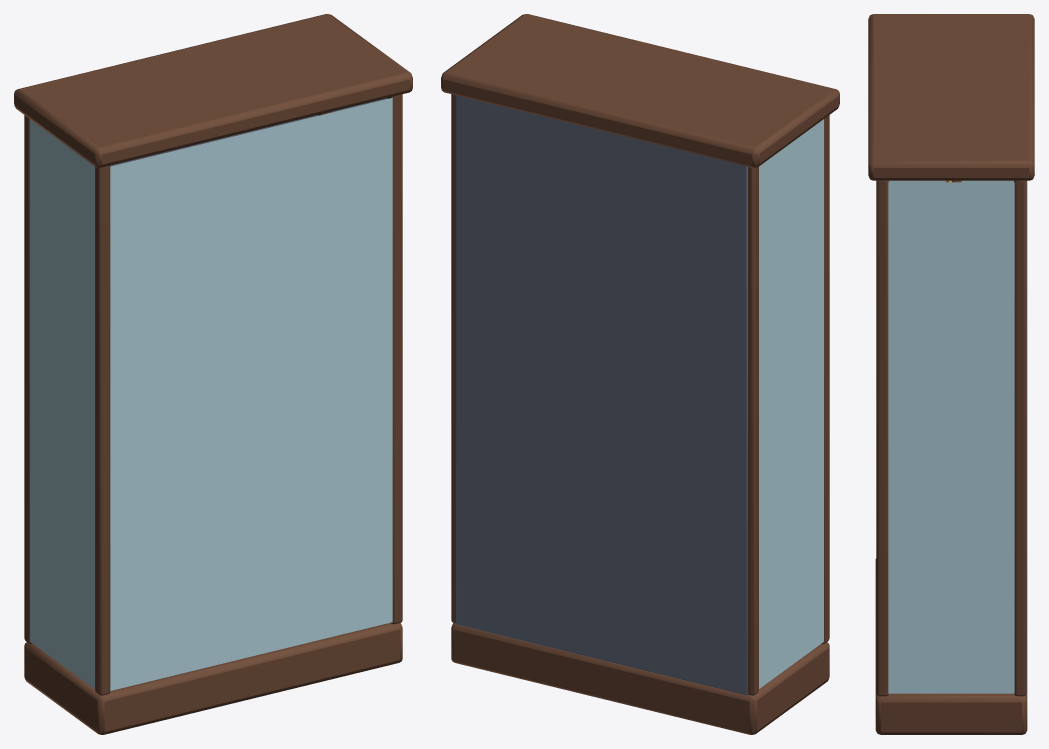
Rendered from trophy_case_l2.glb.
The picture shows the model from 3 angles, left to right: view 1: azimuth 30°, elevation 25°; view 2: azimuth 150°, elevation 25°; view 3: azimuth 270°, elevation 25°; orthographic projection. The views are drawn at different scales.
Visible parts, largest first — view 1: tc_glass_front, trophy_case_l2, tc_glass_side-1; view 2: trophy_case_l2, tc_glass_side-1; view 3: tc_glass_side1, trophy_case_l2, tc_glass_side-1.
Part boxes in pixels (box(x1,y1,x2,y2)): tc_glass_front: box(110, 98, 392, 690); trophy_case_l2: box(14, 14, 412, 734); tc_glass_side-1: box(30, 119, 94, 688); trophy_case_l2: box(441, 14, 839, 734); tc_glass_side-1: box(759, 119, 823, 688); tc_glass_side1: box(888, 182, 1014, 693); trophy_case_l2: box(868, 14, 1034, 734); tc_glass_side-1: box(889, 180, 1013, 182).
Bounding box in the file's own units: 0.99 × 1.76 × 0.46.
